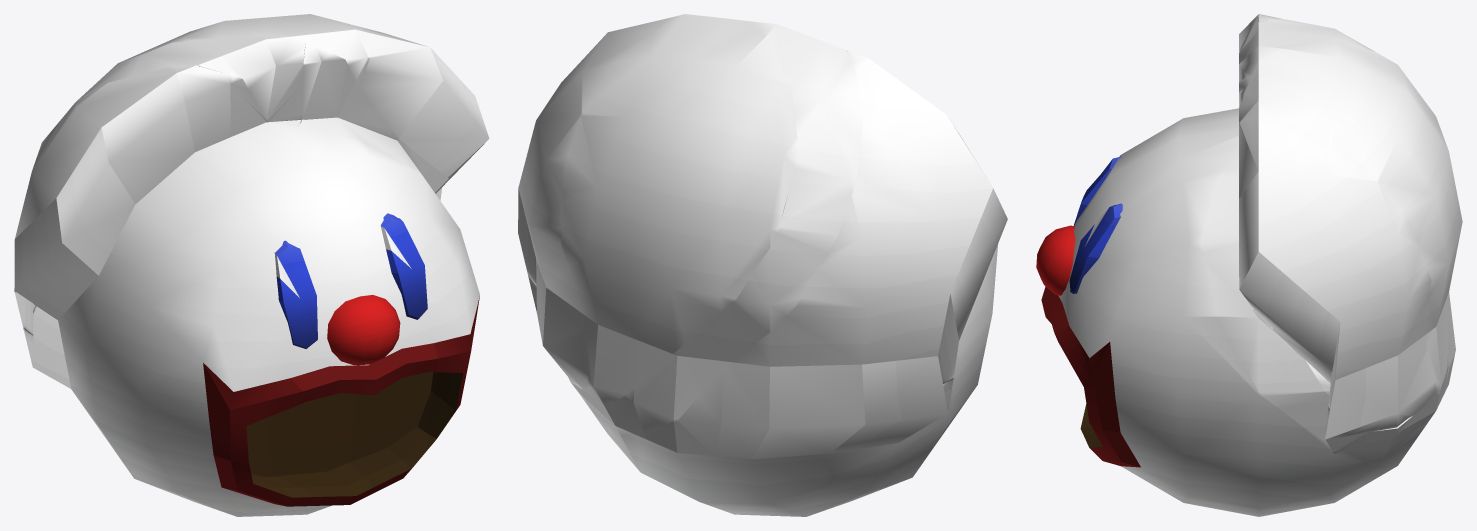
File: Clownhead_Shatter_Version_FirstPAss.fbx
3 renders of one model, left to right at view 1: azimuth 30°, elevation 25°; view 2: azimuth 150°, elevation 25°; view 3: azimuth 270°, elevation 25°, orthographic. The views are drawn at different scales.
Parts seen in each view (by area): view 1: shard6, shard5, shard2, shard4, shard3, shard7, shard1, shard8; view 2: shard6, shard3, shard2, shard5; view 3: shard6, shard5, shard3, shard4, shard2, shard7, shard8, shard1.
Part boxes in pixels (x1,y1,x2,y2): shard6: (14, 65, 479, 516); shard5: (353, 25, 489, 200); shard2: (67, 34, 305, 127); shard4: (300, 42, 448, 192); shard3: (110, 14, 369, 87); shard7: (327, 295, 400, 365); shard1: (274, 240, 317, 348); shard8: (380, 213, 427, 319); shard6: (591, 51, 1007, 516); shard3: (561, 14, 797, 404); shard2: (579, 21, 863, 435); shard5: (518, 18, 669, 399); shard6: (1041, 14, 1454, 516); shard5: (1239, 114, 1436, 439); shard3: (1239, 39, 1462, 402); shard4: (1201, 73, 1407, 451); shard2: (1239, 18, 1455, 443); shard7: (1036, 225, 1075, 295); shard8: (1069, 203, 1122, 293); shard1: (1073, 156, 1121, 225).
Bounding box in the file's own units: 60.64 × 62.02 × 53.32.
